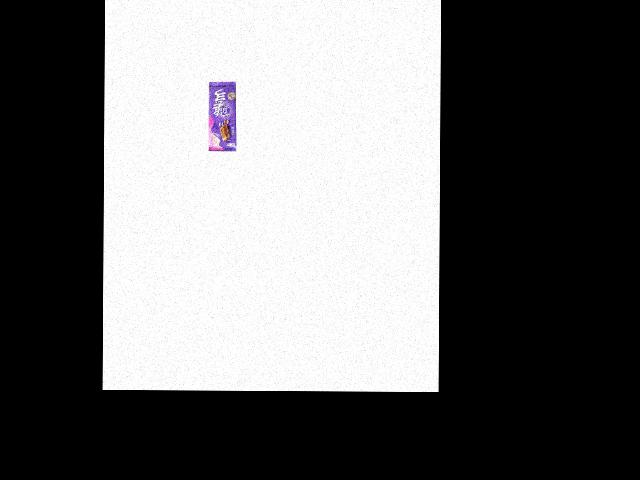chocolate: (208, 81, 237, 151)
